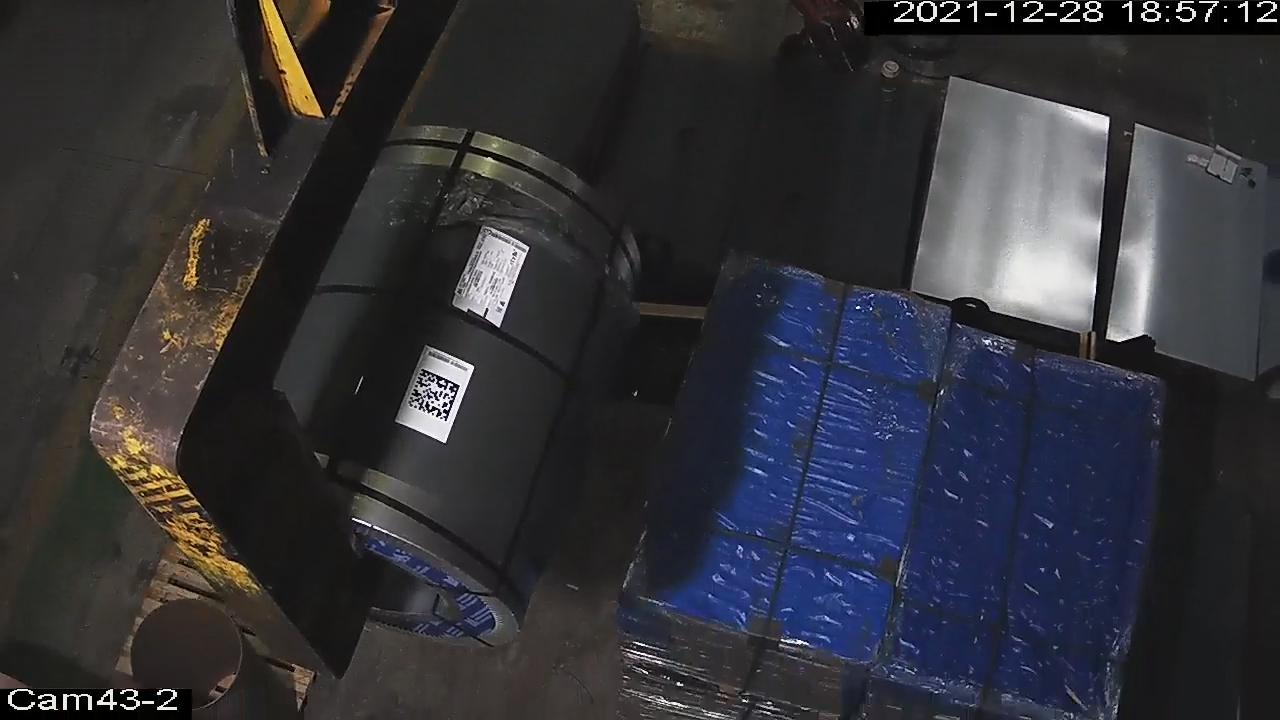data matrix: (406, 367, 462, 424)
